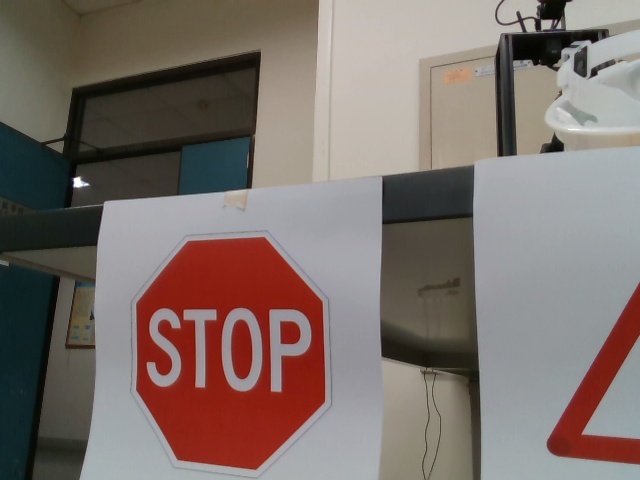stop: (126, 226, 336, 476)
